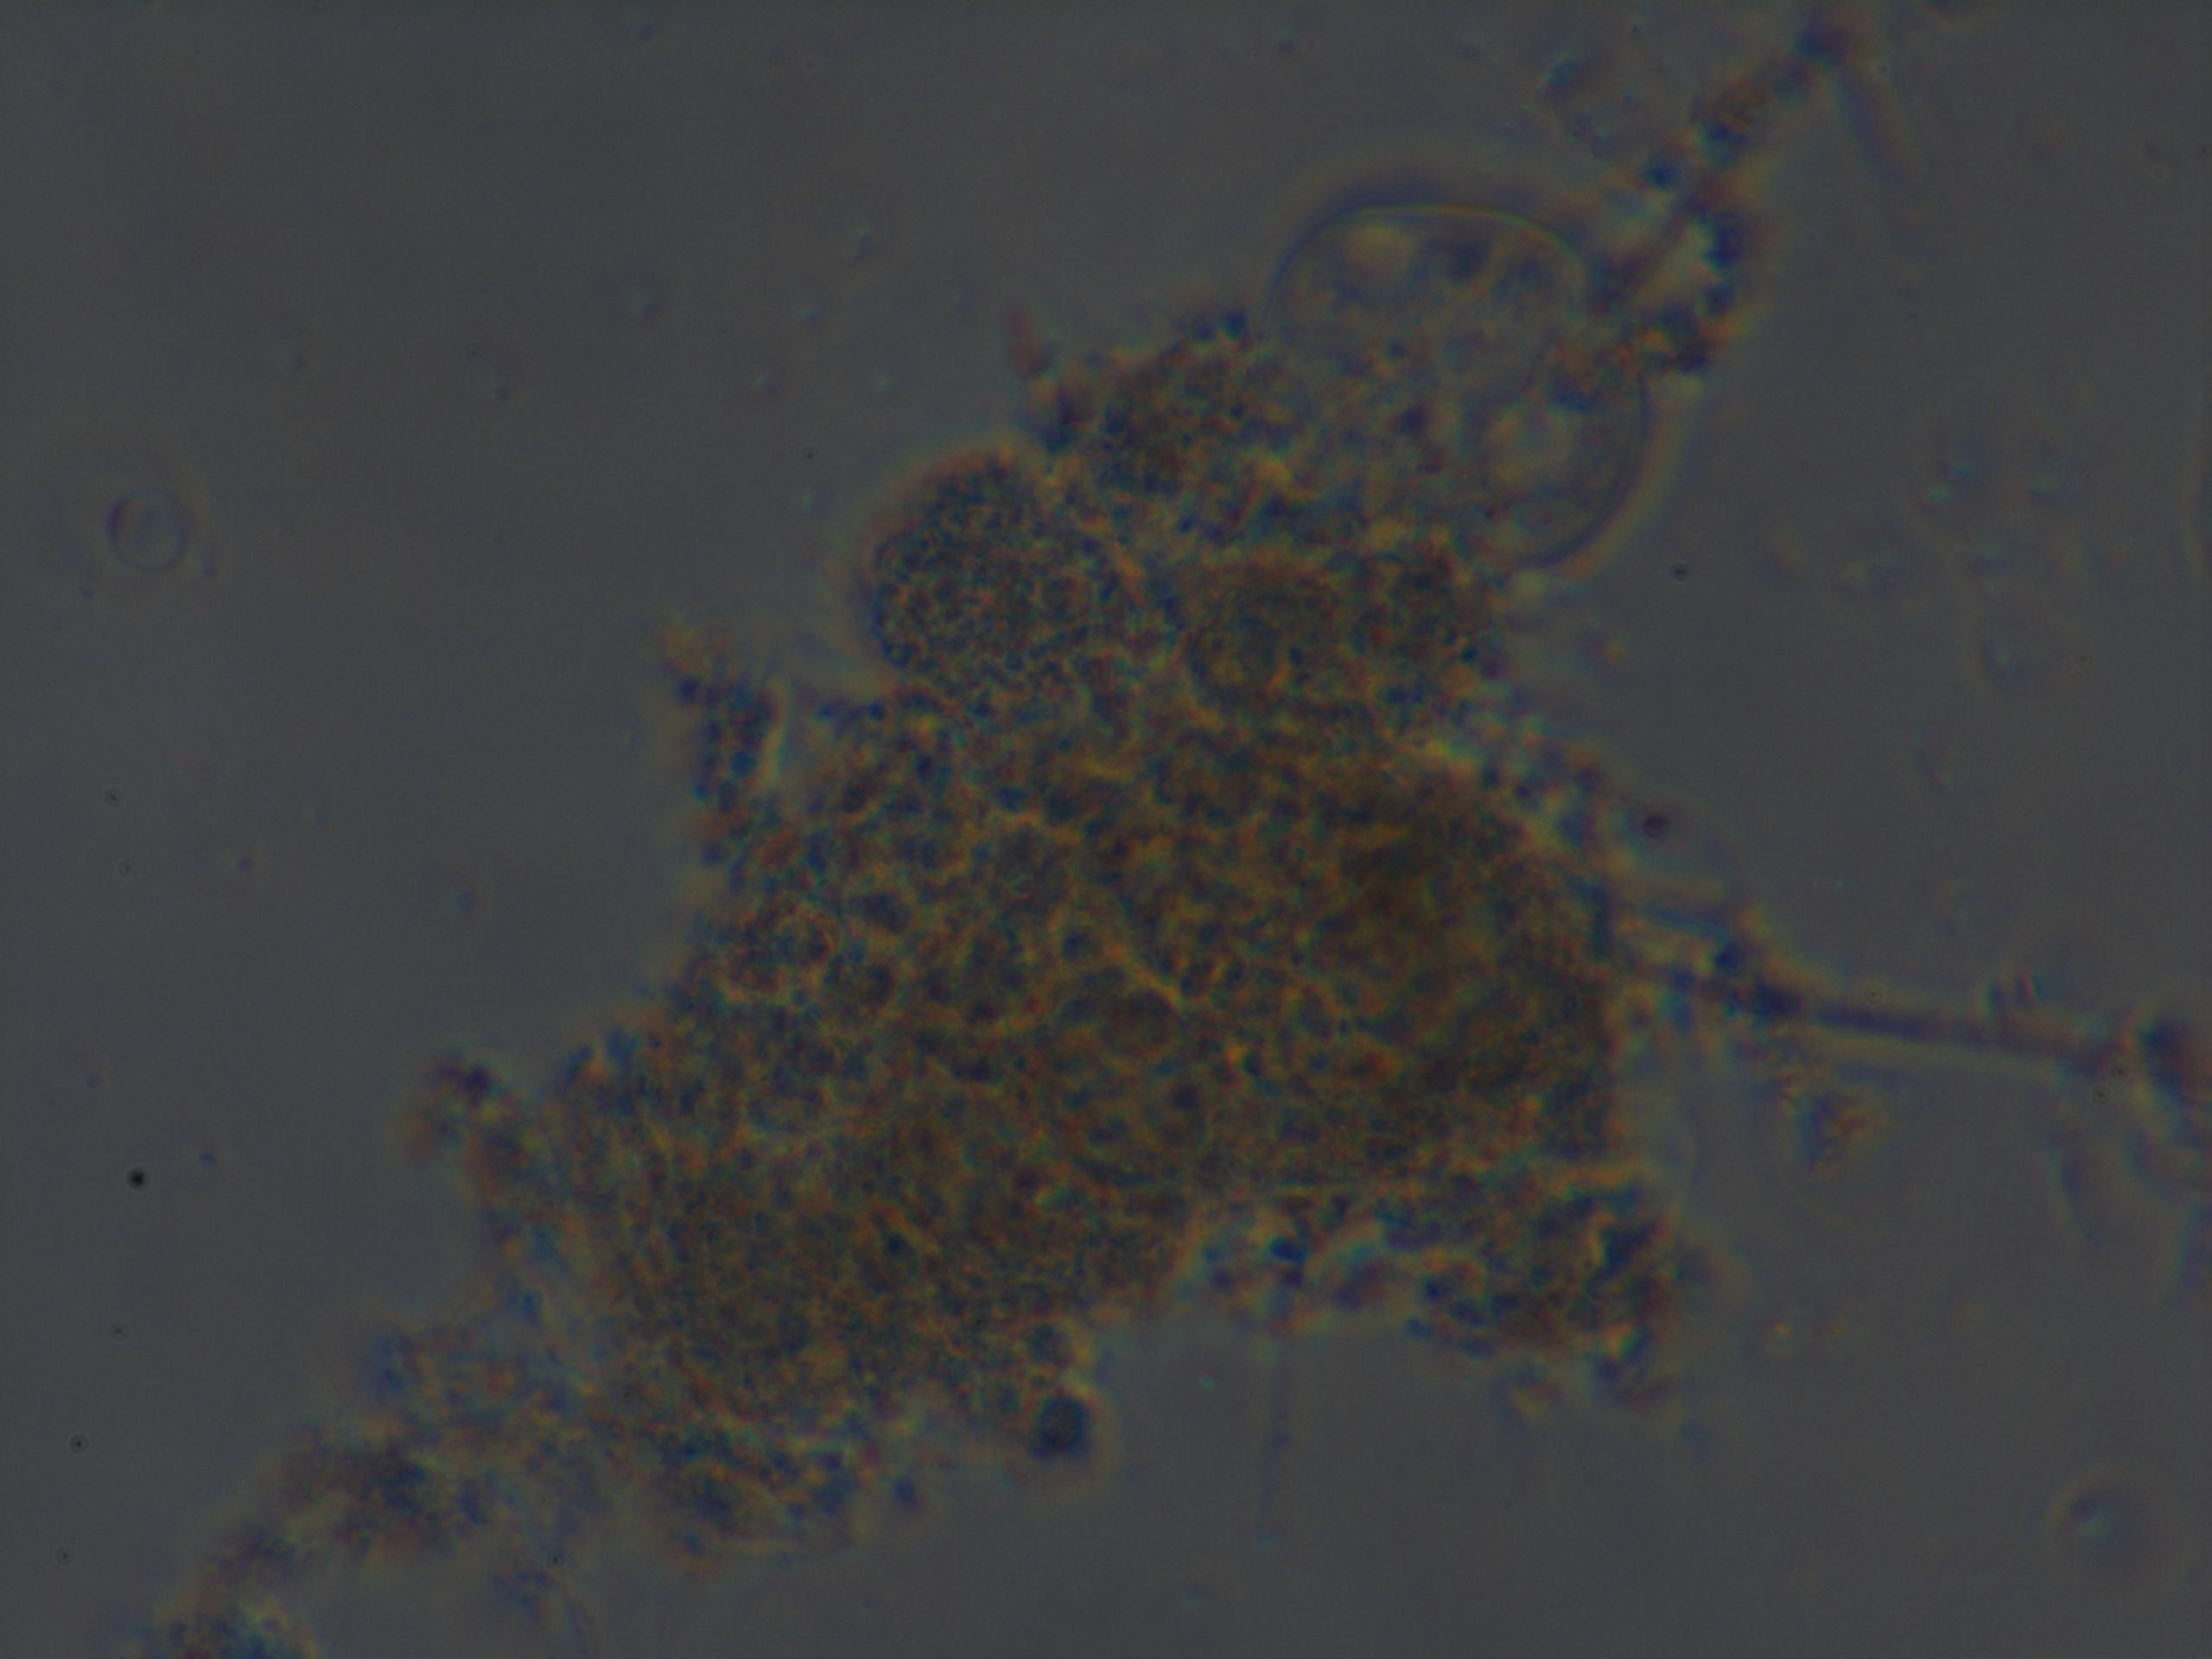filament: (1700, 945, 2212, 1133)
spherical_floc: (421, 681, 1714, 1563)
